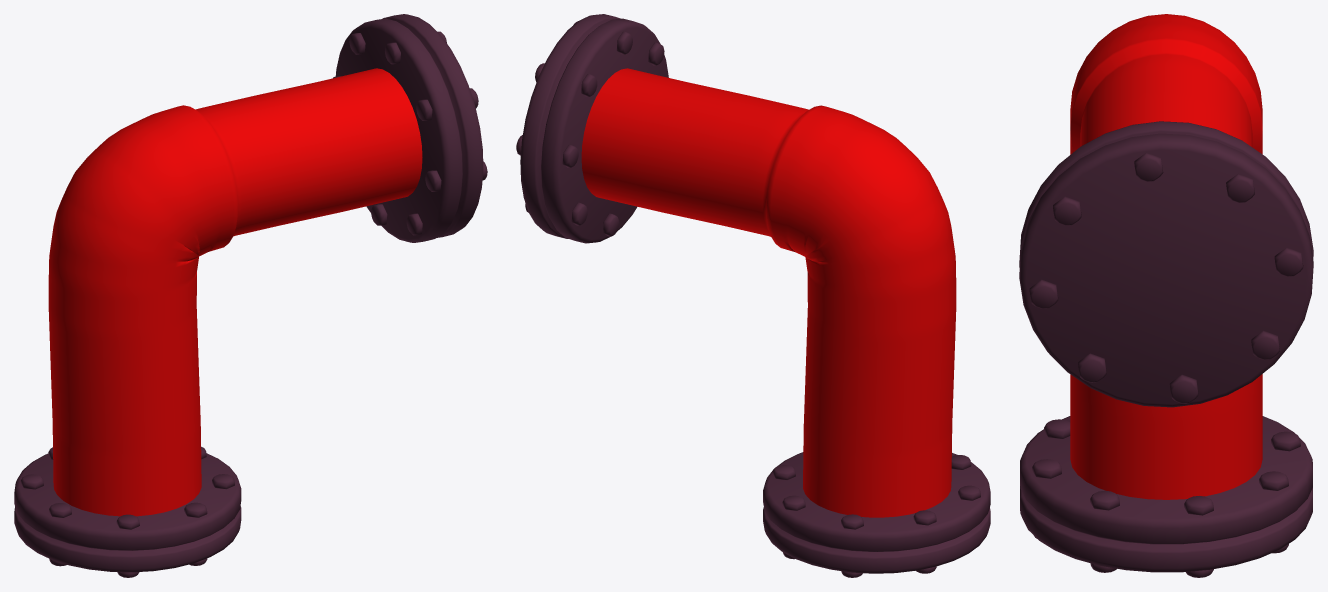
Rendered from LP_M_Pipes_Angle.fbx.
3 renders of one model, left to right at view 1: azimuth 30°, elevation 25°; view 2: azimuth 150°, elevation 25°; view 3: azimuth 270°, elevation 25°, orthographic. The views are drawn at different scales.
Parts seen in each view (by area): view 1: LP_M_Pipes_Angle; view 2: LP_M_Pipes_Angle; view 3: LP_M_Pipes_Angle.
Part boxes in pixels (x1,y1,x2,y2): LP_M_Pipes_Angle: (14,14,487,577); LP_M_Pipes_Angle: (516,14,990,577); LP_M_Pipes_Angle: (1019,14,1313,577).
Bounding box in the file's own units: 102 × 105 × 49.17.
